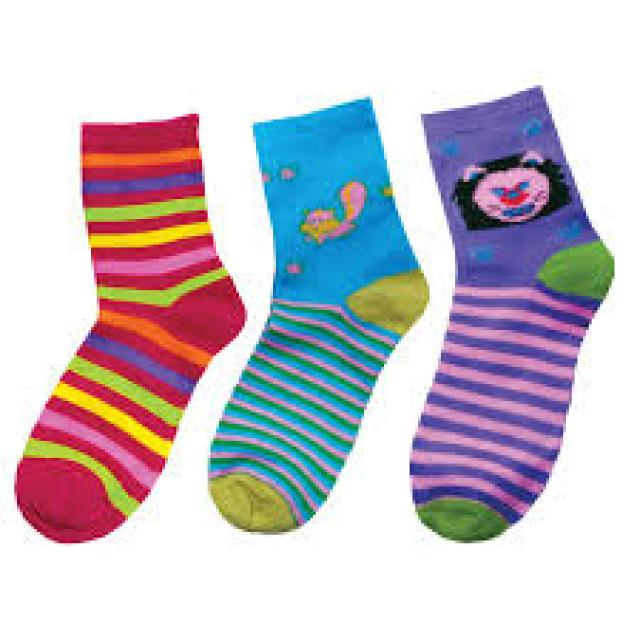sock: (11, 111, 248, 543), (205, 94, 429, 535), (407, 82, 614, 540)
